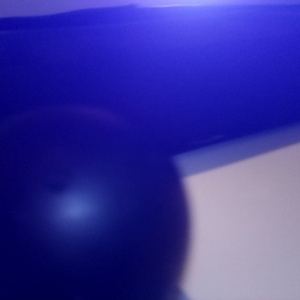dead_ball: (1, 112, 189, 300)
